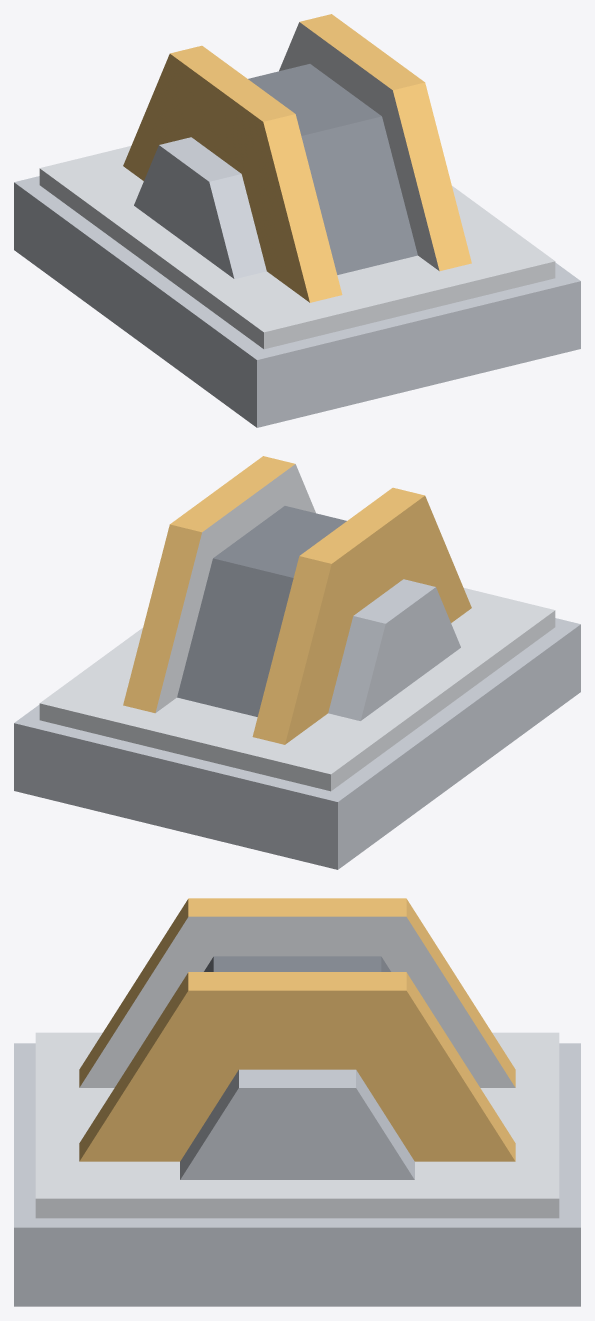
File: machine_generatorLarge.glb
3 views of the same model, one above another, from view 1: azimuth 30°, elevation 25°; view 2: azimuth 150°, elevation 25°; view 3: azimuth 270°, elevation 25° (orthographic). The views are drawn at different scales.
Parts seen in each view (by area): view 1: machine_generatorLarge; view 2: machine_generatorLarge; view 3: machine_generatorLarge.
Part boxes in pixels (x1,y1,x2,y2): machine_generatorLarge: [14, 14, 580, 427]; machine_generatorLarge: [14, 456, 580, 869]; machine_generatorLarge: [14, 898, 580, 1306].
Bounding box in the file's own units: 1 × 0.6831 × 1.3.
